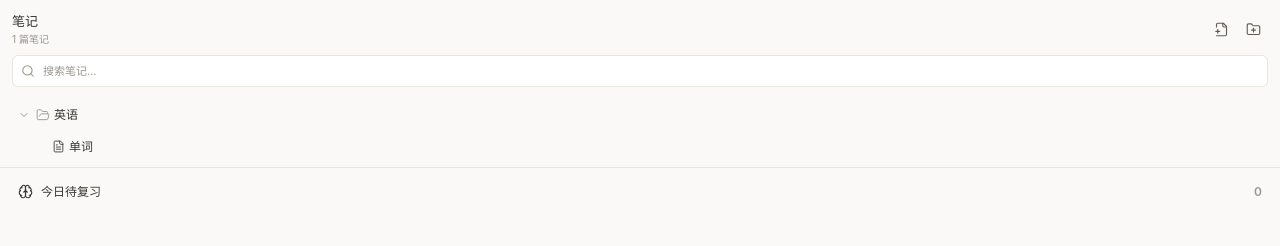
it: FileTree 右键菜单 › 右键文件夹行显示菜单
Right-click the button "英语" at (24, 114), box [8,98,1272,130]
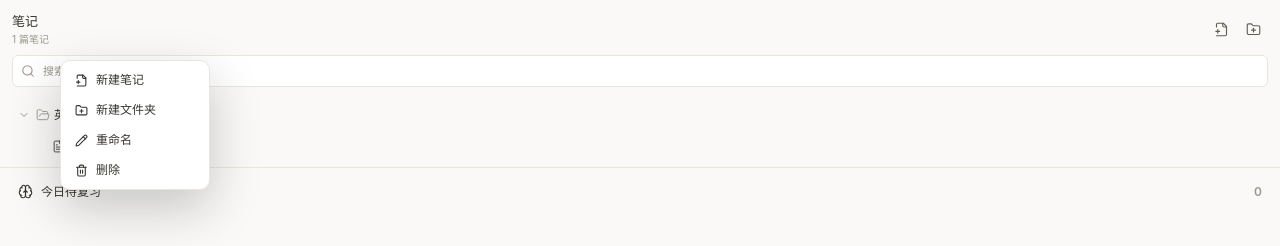
Result: the text "新建笔记" is shown at [65,65,205,95]
Result: the text "删除" is shown at [65,155,205,185]
